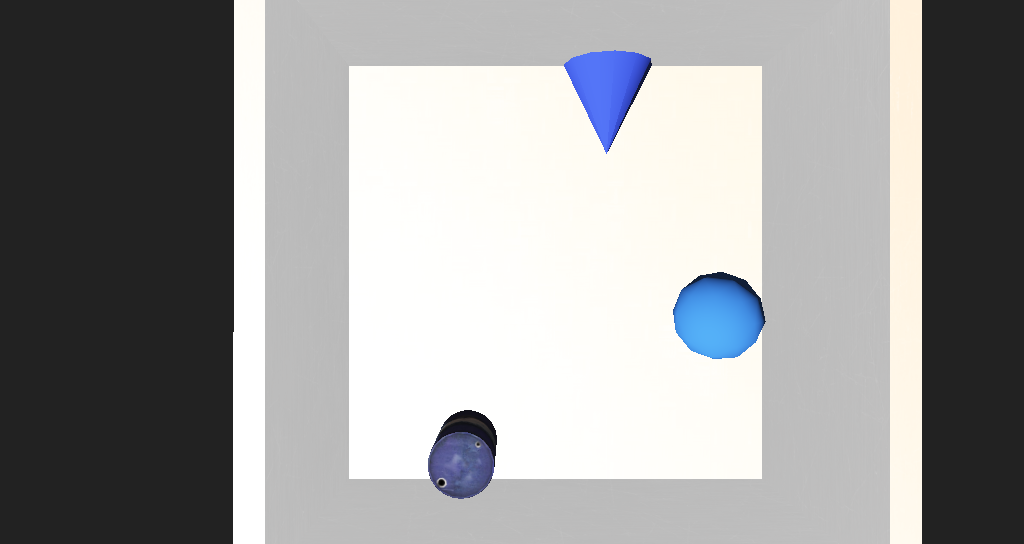cone: (411, 341, 465, 384)
cylinder: (515, 160, 576, 212)
sphere: (586, 270, 653, 313)
